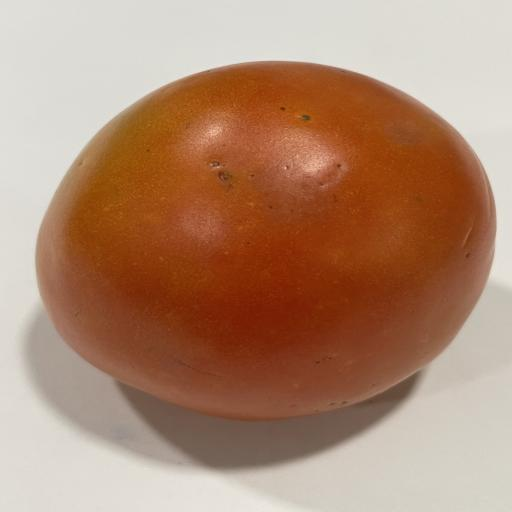unripe: (37, 61, 496, 419)
